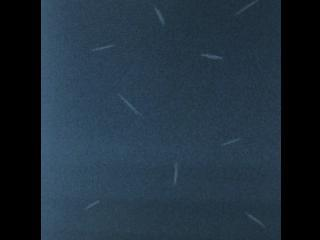scratch: (117, 93, 142, 116), (197, 48, 228, 65), (77, 197, 103, 217), (233, 0, 260, 17), (167, 160, 184, 187), (88, 41, 118, 55), (245, 212, 266, 228), (153, 5, 166, 24), (220, 137, 241, 146)
